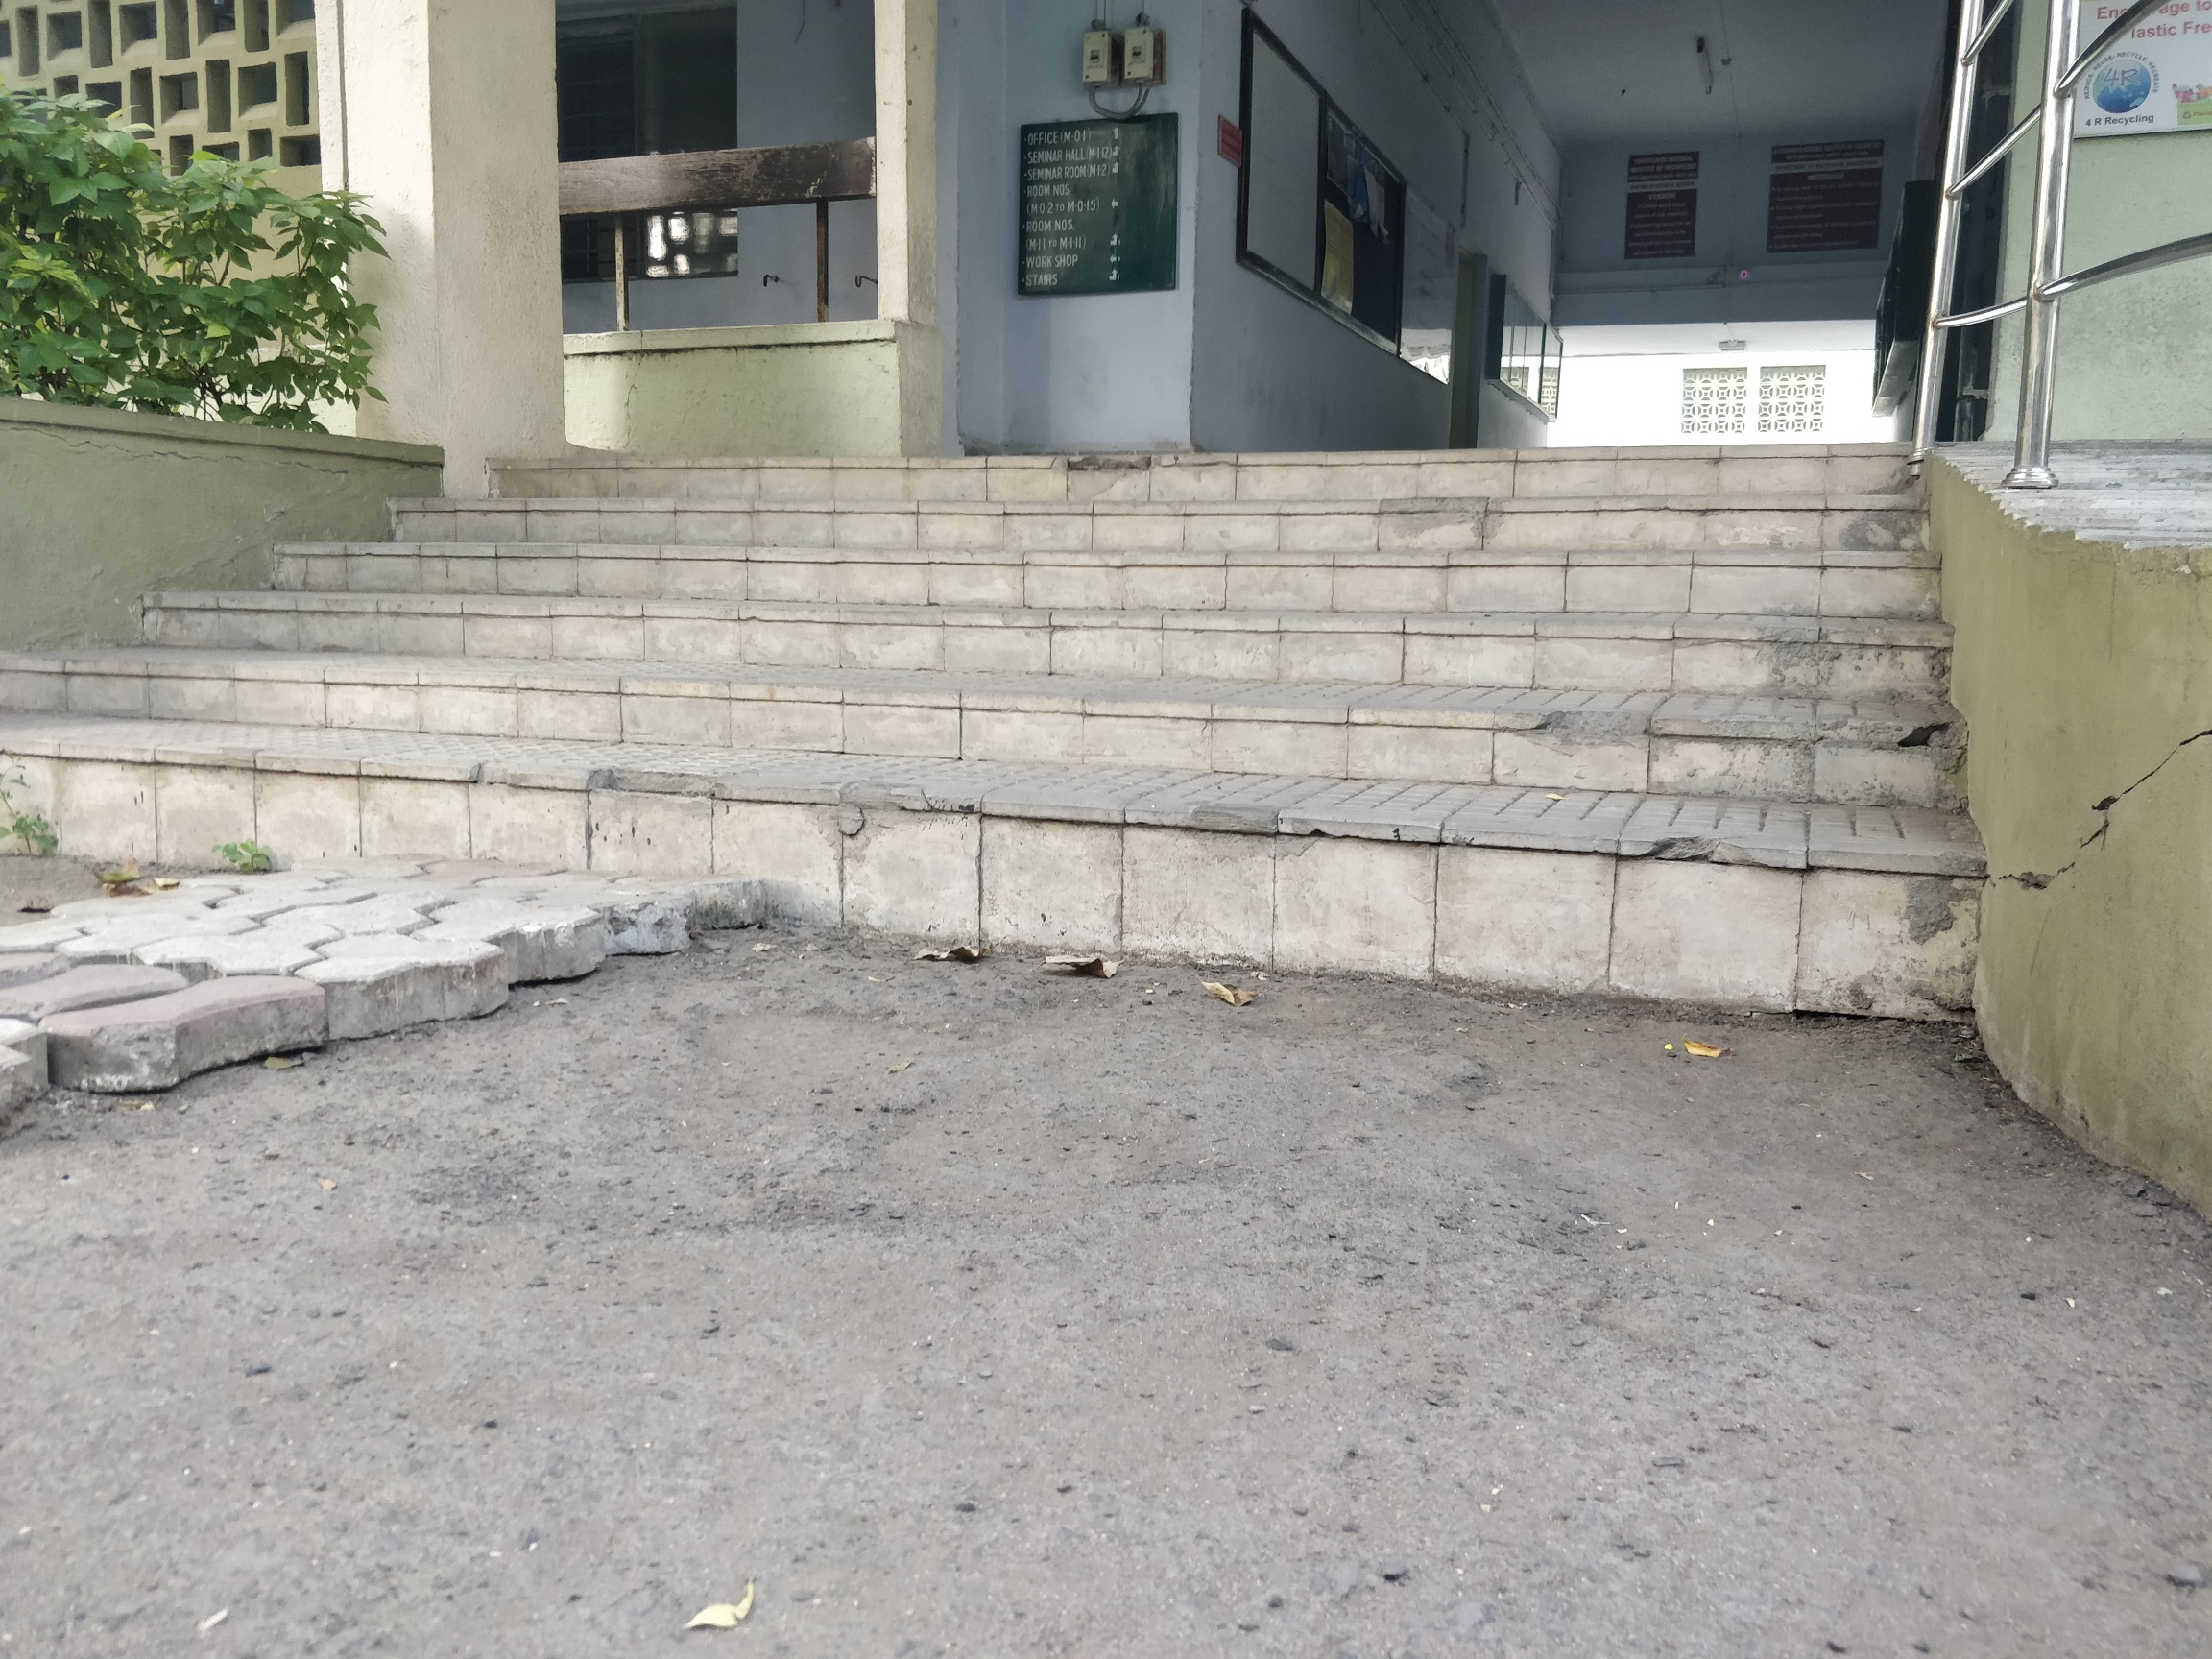stairs_up: (5, 418, 1965, 983)
